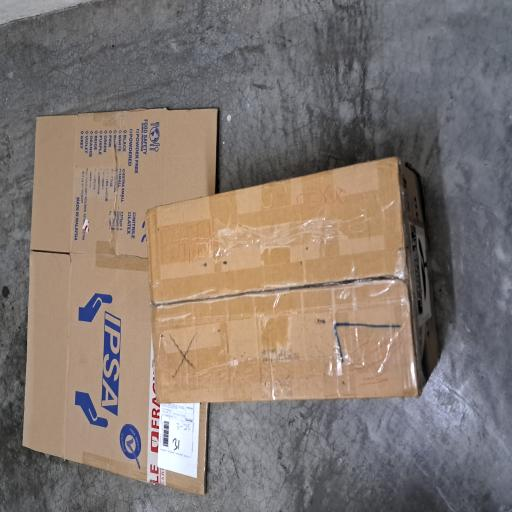cardboard: (12, 32, 304, 294), (82, 195, 267, 512)
